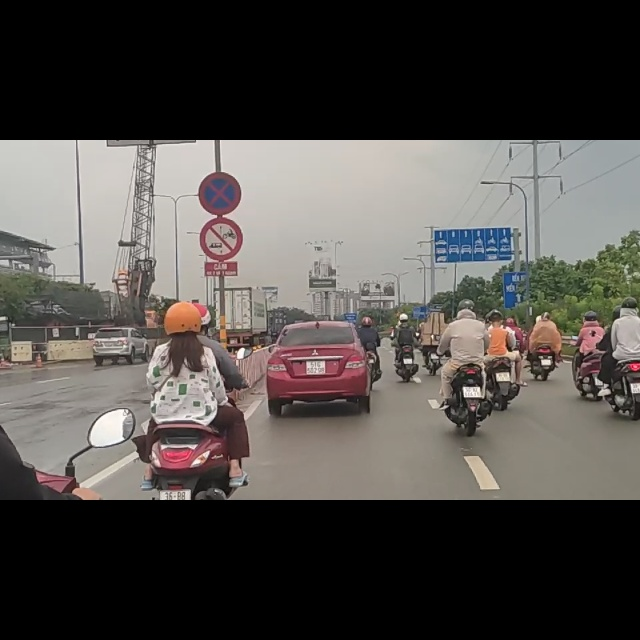bien_cam: (200, 138, 242, 213), (198, 58, 240, 132)
